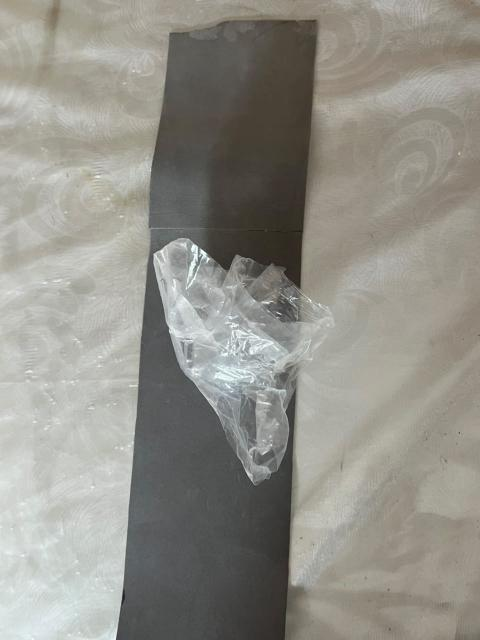LDPE: (138, 215, 340, 510)
